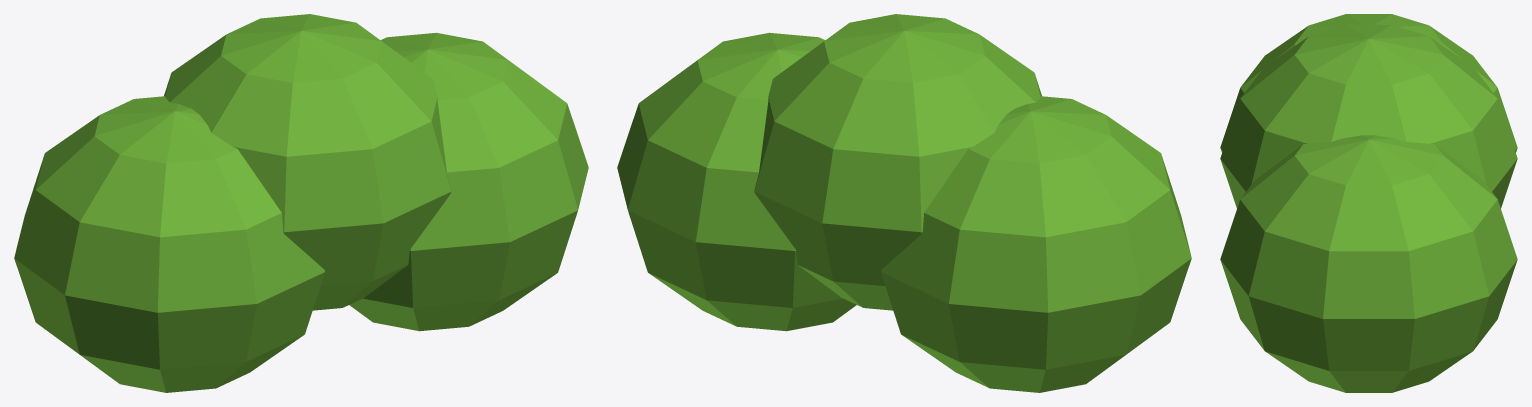
Rendered from ENV_Greenwood_Bush_V1.glb.
3 views of the same model, side by side, from view 1: azimuth 30°, elevation 25°; view 2: azimuth 150°, elevation 25°; view 3: azimuth 270°, elevation 25° (orthographic). The views are drawn at different scales.
Visible parts, largest first — view 1: Leaves_0, Leaves_1, Leaves_2; view 2: Leaves_0, Leaves_1, Leaves_2; view 3: Leaves_2, Leaves_1, Leaves_0.
Boxes of the visible parts, x1,y1,x2,y2 form: Leaves_0: (14,96,325,392); Leaves_1: (164,14,451,310); Leaves_2: (349,32,588,331); Leaves_0: (880,96,1191,392); Leaves_1: (754,14,1041,310); Leaves_2: (617,32,856,331); Leaves_2: (1220,135,1517,392); Leaves_1: (1220,25,1517,208); Leaves_0: (1220,14,1517,152).
Bounding box in the file's own units: 3.31 × 1.9 × 1.8.
